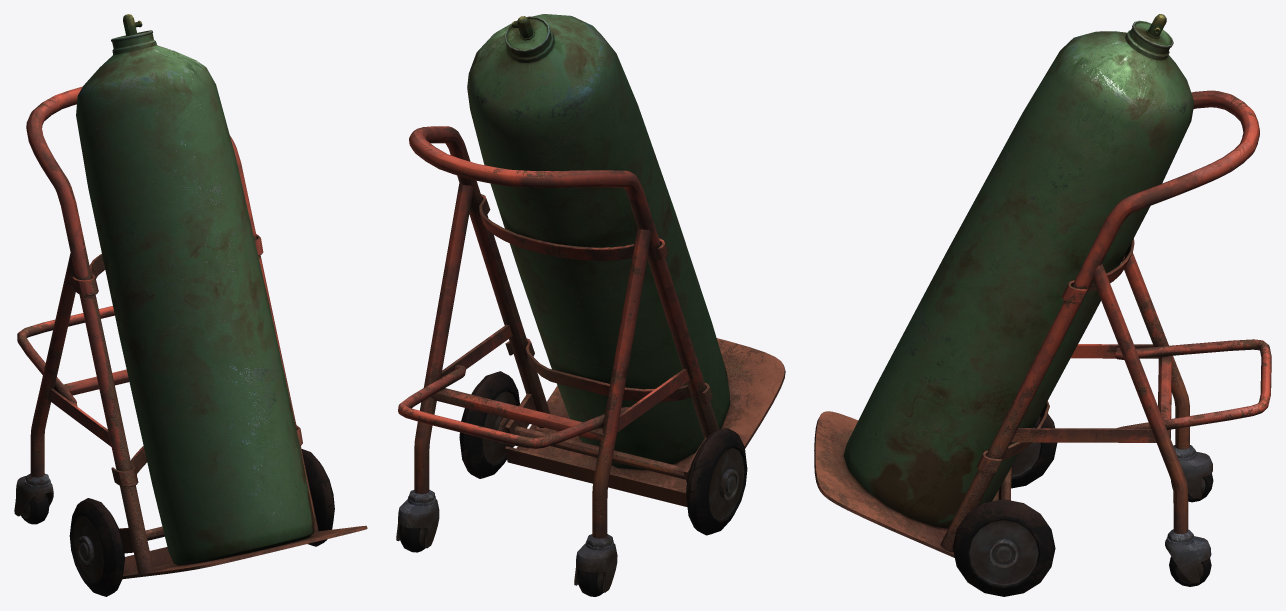
File: gass cylinder.fbx
The picture shows the model from 3 angles, left to right: view 1: azimuth 30°, elevation 25°; view 2: azimuth 150°, elevation 25°; view 3: azimuth 270°, elevation 25°; orthographic projection. The views are drawn at different scales.
Visible parts, largest first — view 1: 1-_Gas, 2-_metal, 4-_wheels, 3-_Iron; view 2: 1-_Gas, 2-_metal, 4-_wheels, 3-_Iron; view 3: 1-_Gas, 2-_metal, 3-_Iron, 4-_wheels.
Boxes of the visible parts, x1=… form: 1-_Gas: x1=76, y1=14, x2=314, y2=565; 2-_metal: x1=17, y1=86, x2=367, y2=578; 4-_wheels: x1=21, y1=449, x2=334, y2=596; 3-_Iron: x1=14, y1=473, x2=312, y2=582; 1-_Gas: x1=467, y1=14, x2=730, y2=469; 2-_metal: x1=398, y1=126, x2=785, y2=538; 4-_wheels: x1=399, y1=371, x2=747, y2=596; 3-_Iron: x1=396, y1=391, x2=744, y2=592; 1-_Gas: x1=843, y1=14, x2=1194, y2=528; 2-_metal: x1=814, y1=90, x2=1271, y2=557; 3-_Iron: x1=969, y1=426, x2=1212, y2=585; 4-_wheels: x1=952, y1=413, x2=1213, y2=596.
Bounding box in the file's own units: 2.75 × 5.55 × 4.36.
Materials: 4 (4 with a texture image).
